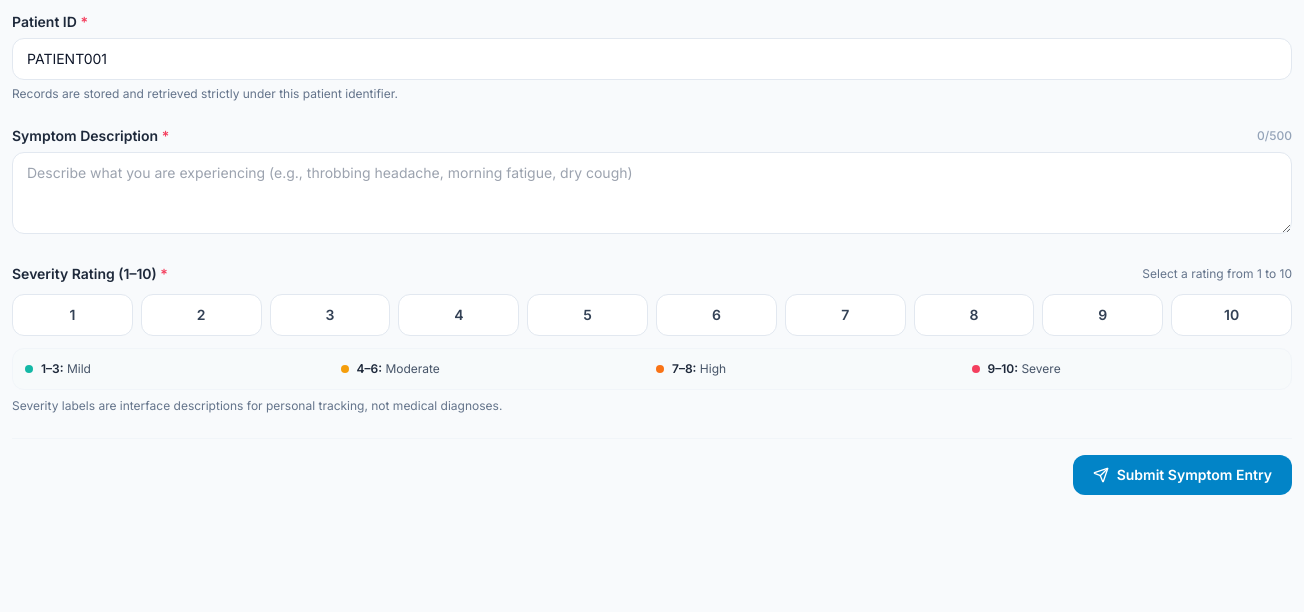
SymptomForm › displays API success feedback and clears form after successful submission
Type "  Migraine headache  " into the text box labelled "Symptom Description *" at [652, 193], box [12,152,1292,234]
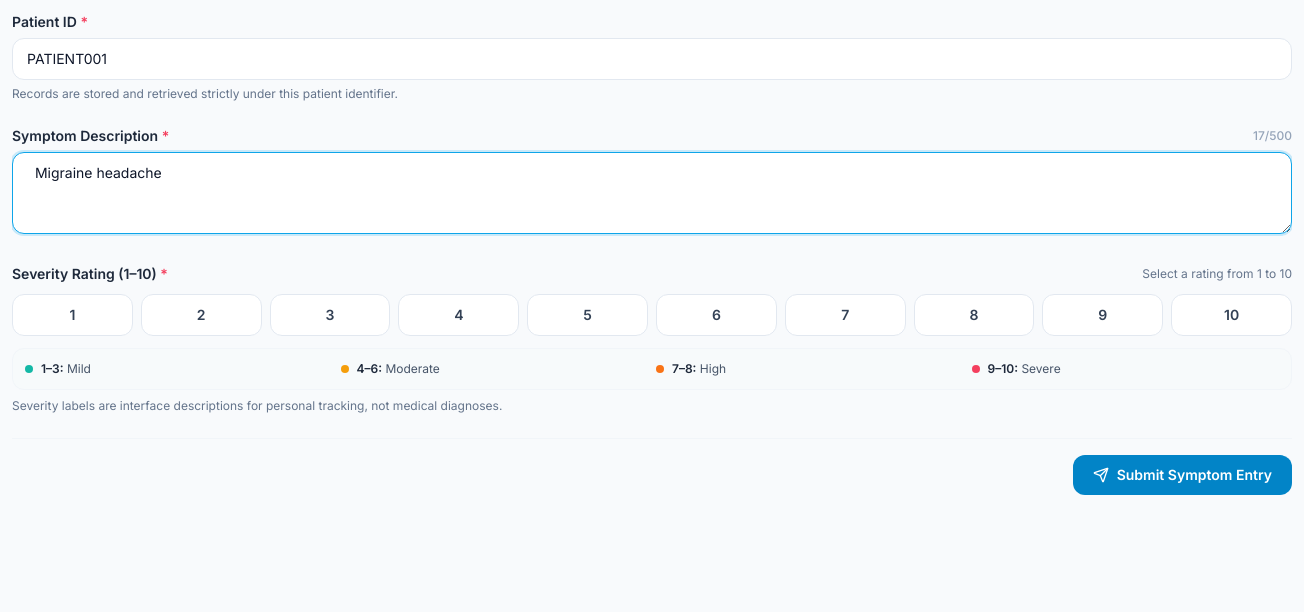
Click the radio button named "Severity 7 (High)" at [845, 315], box [785,294,906,336]
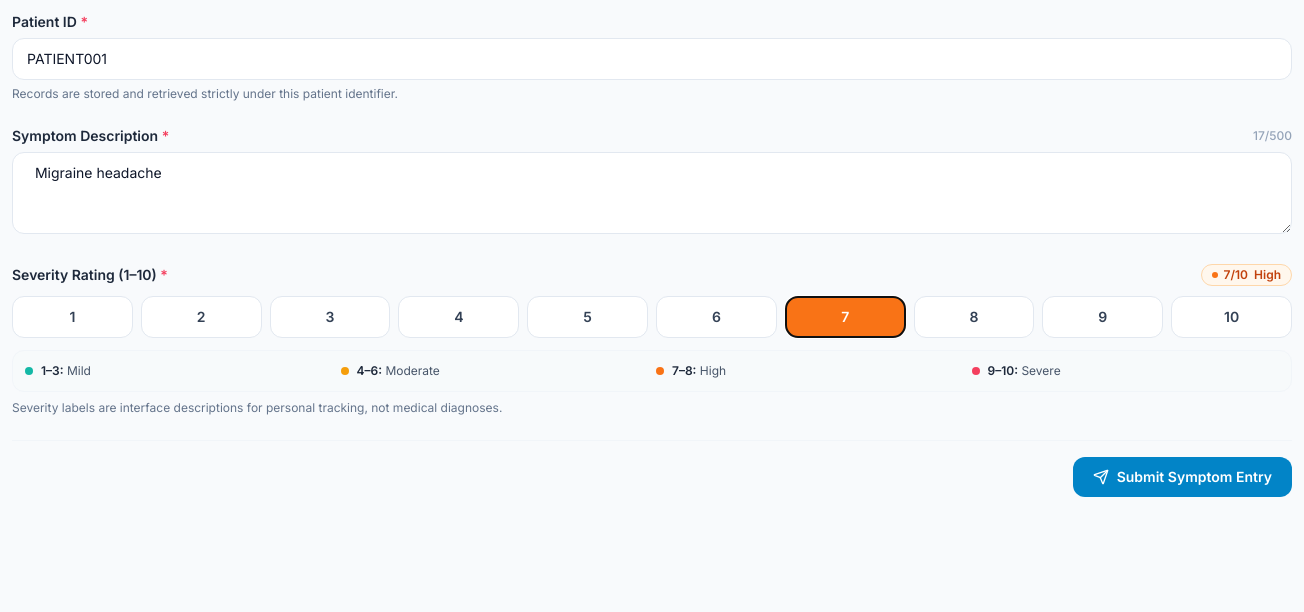
Click the button "Submit Symptom Entry" at [1182, 477], box [1073,457,1292,497]
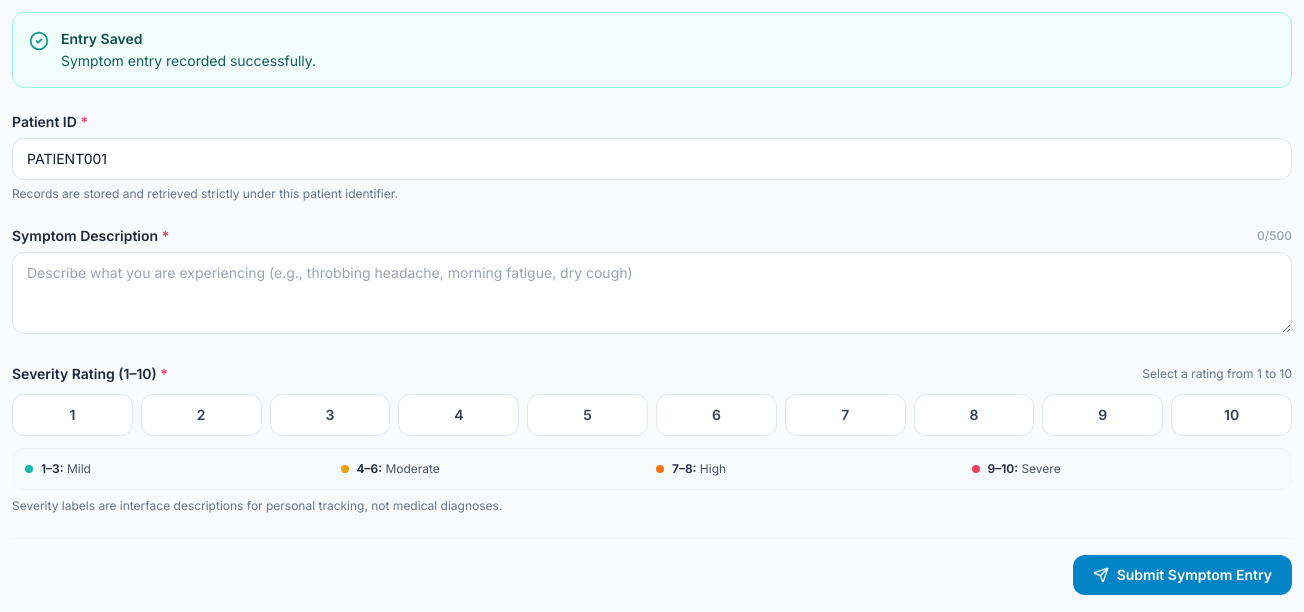
Now the message shows "Symptom entry recorded successfully.", box [61,52,316,69]
Now the text box labelled "Symptom Description *" is empty, box [12,252,1292,334]
